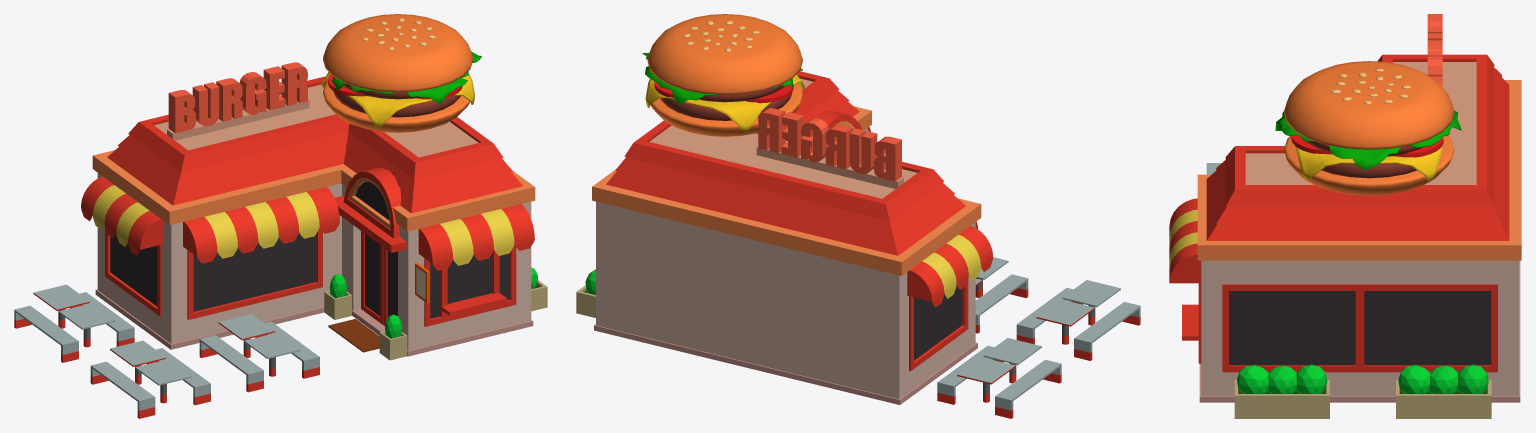
The model's file is BurgerBuilding.glb.
3 views of the same model, side by side, from view 1: azimuth 30°, elevation 25°; view 2: azimuth 150°, elevation 25°; view 3: azimuth 270°, elevation 25° (orthographic). The views are drawn at different scales.
Parts seen in each view (by area): view 1: BurgerBuilding; view 2: BurgerBuilding; view 3: BurgerBuilding.
Boxes of the visible parts, x1,y1,x2,y2 form: BurgerBuilding: (14, 14, 547, 418); BurgerBuilding: (576, 14, 1140, 418); BurgerBuilding: (1169, 14, 1521, 418).
Size of the model in its own units: 0.0657 by 0.0375 by 0.0421.
Materials: 1 (1 with a texture image).
